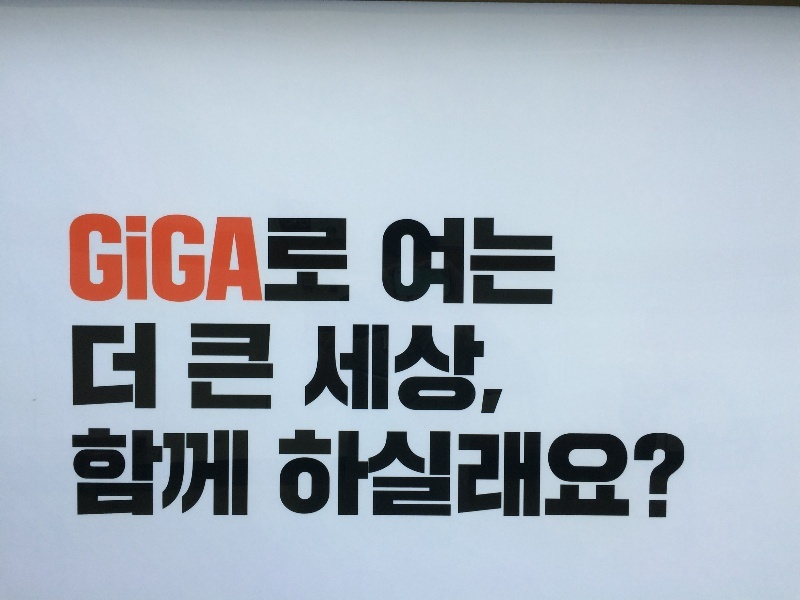text: (81, 211, 96, 304), (97, 211, 112, 304), (113, 211, 128, 304), (129, 211, 144, 304), (145, 211, 160, 304), (161, 211, 176, 304), (177, 211, 192, 304), (193, 211, 208, 304), (209, 211, 224, 304), (225, 211, 240, 304), (241, 211, 256, 304), (385, 215, 400, 308), (401, 215, 416, 308), (417, 215, 432, 308), (433, 215, 448, 308), (449, 215, 464, 308), (465, 215, 480, 308), (481, 215, 496, 308), (497, 215, 512, 308), (513, 215, 528, 308), (529, 215, 544, 308), (289, 428, 304, 520), (305, 428, 320, 520), (321, 428, 336, 520), (337, 428, 352, 520), (353, 428, 368, 520), (369, 428, 384, 520), (385, 428, 400, 520), (401, 428, 416, 520), (417, 428, 432, 520), (433, 428, 448, 520), (449, 428, 464, 520), (465, 428, 480, 520), (481, 428, 496, 520), (497, 428, 512, 520), (513, 428, 528, 520), (529, 428, 544, 520), (545, 428, 560, 520), (561, 428, 576, 520), (577, 428, 592, 520), (593, 428, 608, 520), (609, 428, 624, 520), (625, 428, 640, 520), (641, 428, 656, 520), (657, 428, 672, 520), (673, 428, 688, 520), (81, 428, 96, 519), (97, 428, 112, 519), (113, 428, 128, 519), (129, 428, 144, 519), (145, 428, 160, 519), (161, 428, 176, 519), (177, 428, 192, 519), (193, 428, 208, 519), (209, 428, 224, 519), (225, 428, 240, 519), (81, 322, 96, 412), (97, 322, 112, 412), (113, 322, 128, 412), (129, 322, 144, 412), (193, 322, 208, 412), (209, 322, 224, 412), (225, 322, 240, 412), (241, 322, 256, 412), (257, 322, 272, 412), (305, 326, 320, 416), (321, 326, 336, 416), (337, 326, 352, 416), (353, 326, 368, 416), (369, 326, 384, 416), (385, 326, 400, 416), (401, 326, 416, 416), (417, 326, 432, 416), (433, 326, 448, 416), (449, 326, 464, 416), (465, 326, 480, 416), (481, 326, 496, 416), (273, 217, 288, 304), (289, 217, 304, 304), (305, 217, 320, 304), (321, 217, 336, 304), (337, 217, 351, 304), (497, 326, 510, 416), (68, 211, 80, 304), (545, 215, 557, 308), (145, 322, 157, 412), (278, 428, 288, 520), (241, 428, 251, 519), (71, 428, 80, 519), (71, 322, 80, 412), (257, 211, 264, 304), (267, 217, 272, 304), (188, 322, 192, 412), (273, 322, 276, 412), (382, 215, 384, 308)
